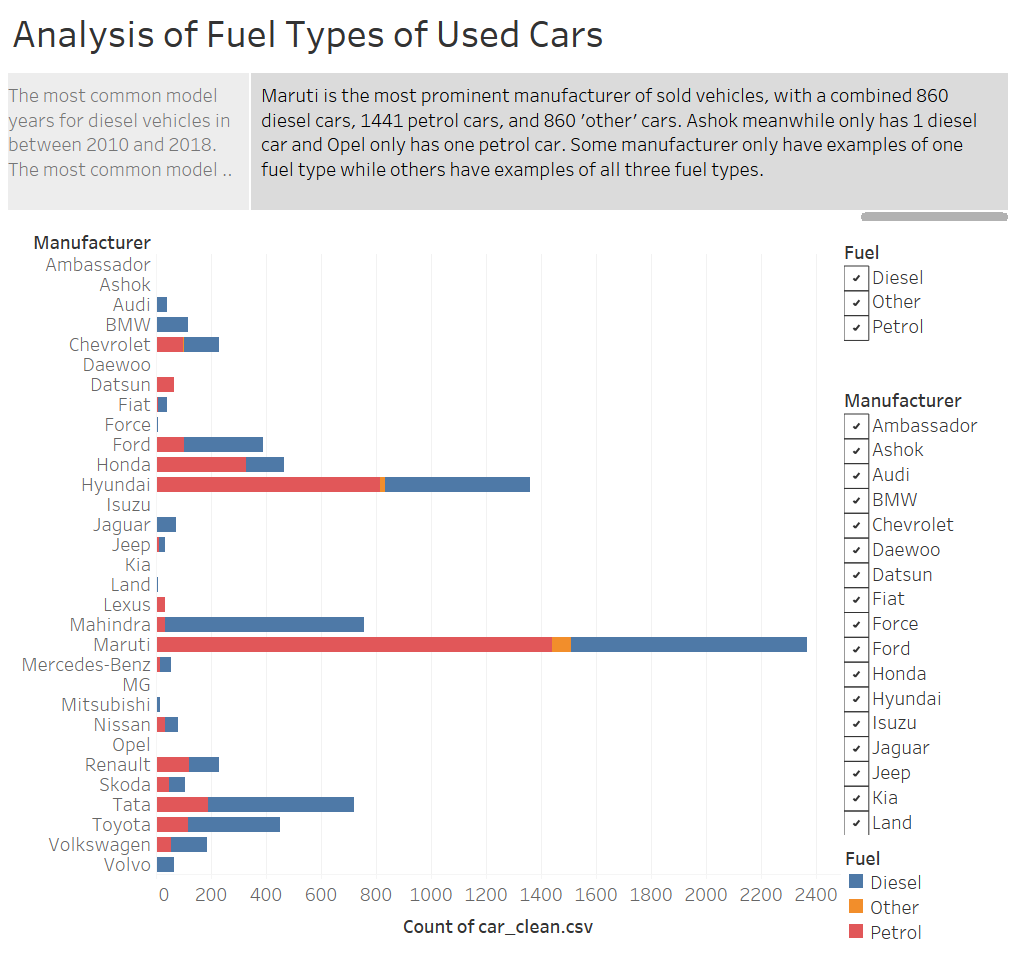

The page's visual inventory and layout, read from the dashboard file:
{"tool":"tableau","page":{"name":"Dashboard 3","canvas":[1000,800],"ordinal":2},"visuals":[{"type":"title","box":[8,8,824,85]},{"type":"worksheet","title":"Fuel Type by Manufacturer","mark":"Bar","rows":["manufacturer"],"cols":["car_clean.csv_09DAD05B3A444189B1C74108E219864E"],"box":[31,91,729,702]},{"type":"filter","title":"Fuel Type by Manufacturer","param":"[federated.0jbiwkj05f2ae810brf5c0dl72t4].[none:fuel:nk]","box":[550,98,160,100]},{"type":"filter","title":"Fuel Type by Manufacturer","param":"[federated.0jbiwkj05f2ae810brf5c0dl72t4].[none:manufacturer:nk]","box":[817,99,160,632]},{"type":"legend","title":"Fuel Type by Manufacturer","param":"[federated.0jbiwkj05f2ae810brf5c0dl72t4].[none:fuel:nk]","box":[552,222,140,78]},{"type":"text","box":[516,340,214,77]}]}

Visuals, with their boxes on the page's 1000x800 design canvas (x1, y1, x2, y2). These are canvas units, not pixel positions in the 1016x964 screenshot, which may show the page scaled, cropped or inside an application window:
title: bbox(8, 8, 832, 93)
"Fuel Type by Manufacturer" worksheet (Bar marks): bbox(31, 91, 760, 793)
"Fuel Type by Manufacturer" filter: bbox(550, 98, 710, 198)
"Fuel Type by Manufacturer" filter: bbox(817, 99, 977, 731)
"Fuel Type by Manufacturer" legend: bbox(552, 222, 692, 300)
text: bbox(516, 340, 730, 417)
